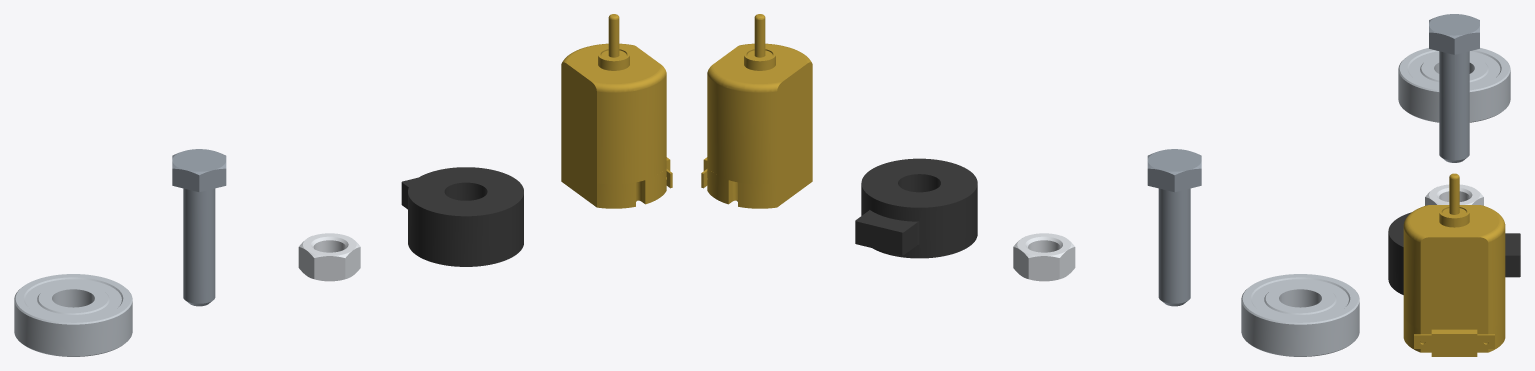
File: mcmaster-hardware.glb
The picture shows the model from 3 angles, left to right: view 1: azimuth 30°, elevation 25°; view 2: azimuth 150°, elevation 25°; view 3: azimuth 270°, elevation 25°; orthographic projection. The views are drawn at different scales.
Parts seen in each view (by area): view 1: 6331K32, 6435K12, 5972K325, 91280A340, 91828A230; view 2: 6331K32, 6435K12, 5972K325, 91280A340, 91828A230; view 3: 6331K32, 5972K325, 91280A340, 6435K12, 91828A230.
Part boxes in pixels (<box>): 6331K32: <box>561,14,672,208</box>; 6435K12: <box>401,167,523,266</box>; 5972K325: <box>14,274,132,356</box>; 91280A340: <box>172,149,226,306</box>; 91828A230: <box>298,233,360,281</box>; 6331K32: <box>701,14,812,208</box>; 6435K12: <box>855,158,977,258</box>; 5972K325: <box>1241,274,1359,356</box>; 91280A340: <box>1147,149,1201,306</box>; 91828A230: <box>1013,233,1075,281</box>; 6331K32: <box>1403,173,1505,356</box>; 5972K325: <box>1398,48,1510,122</box>; 91280A340: <box>1429,14,1479,162</box>; 6435K12: <box>1388,212,1520,294</box>; 91828A230: <box>1425,184,1483,205</box>.
Bounding box in the file's own units: 1.37 × 0.38 × 0.2592.
